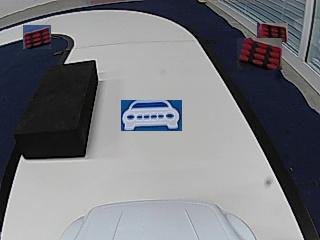block: (19, 59, 96, 160)
